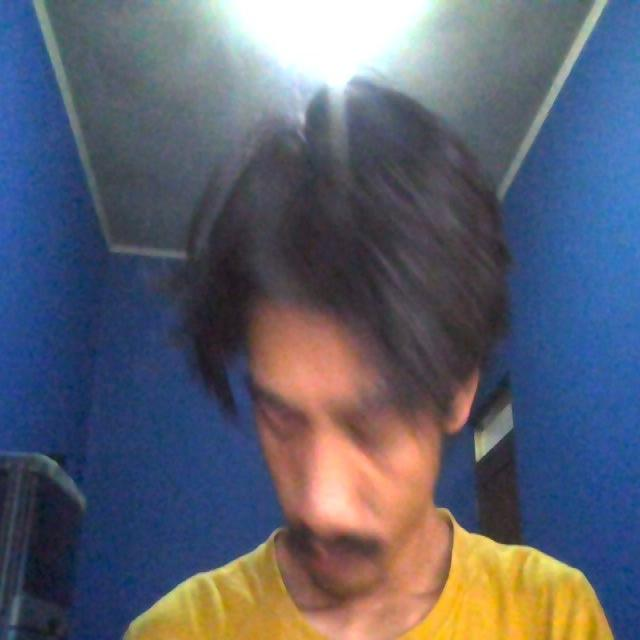Melihat Kebawah: (176, 63, 506, 617)
